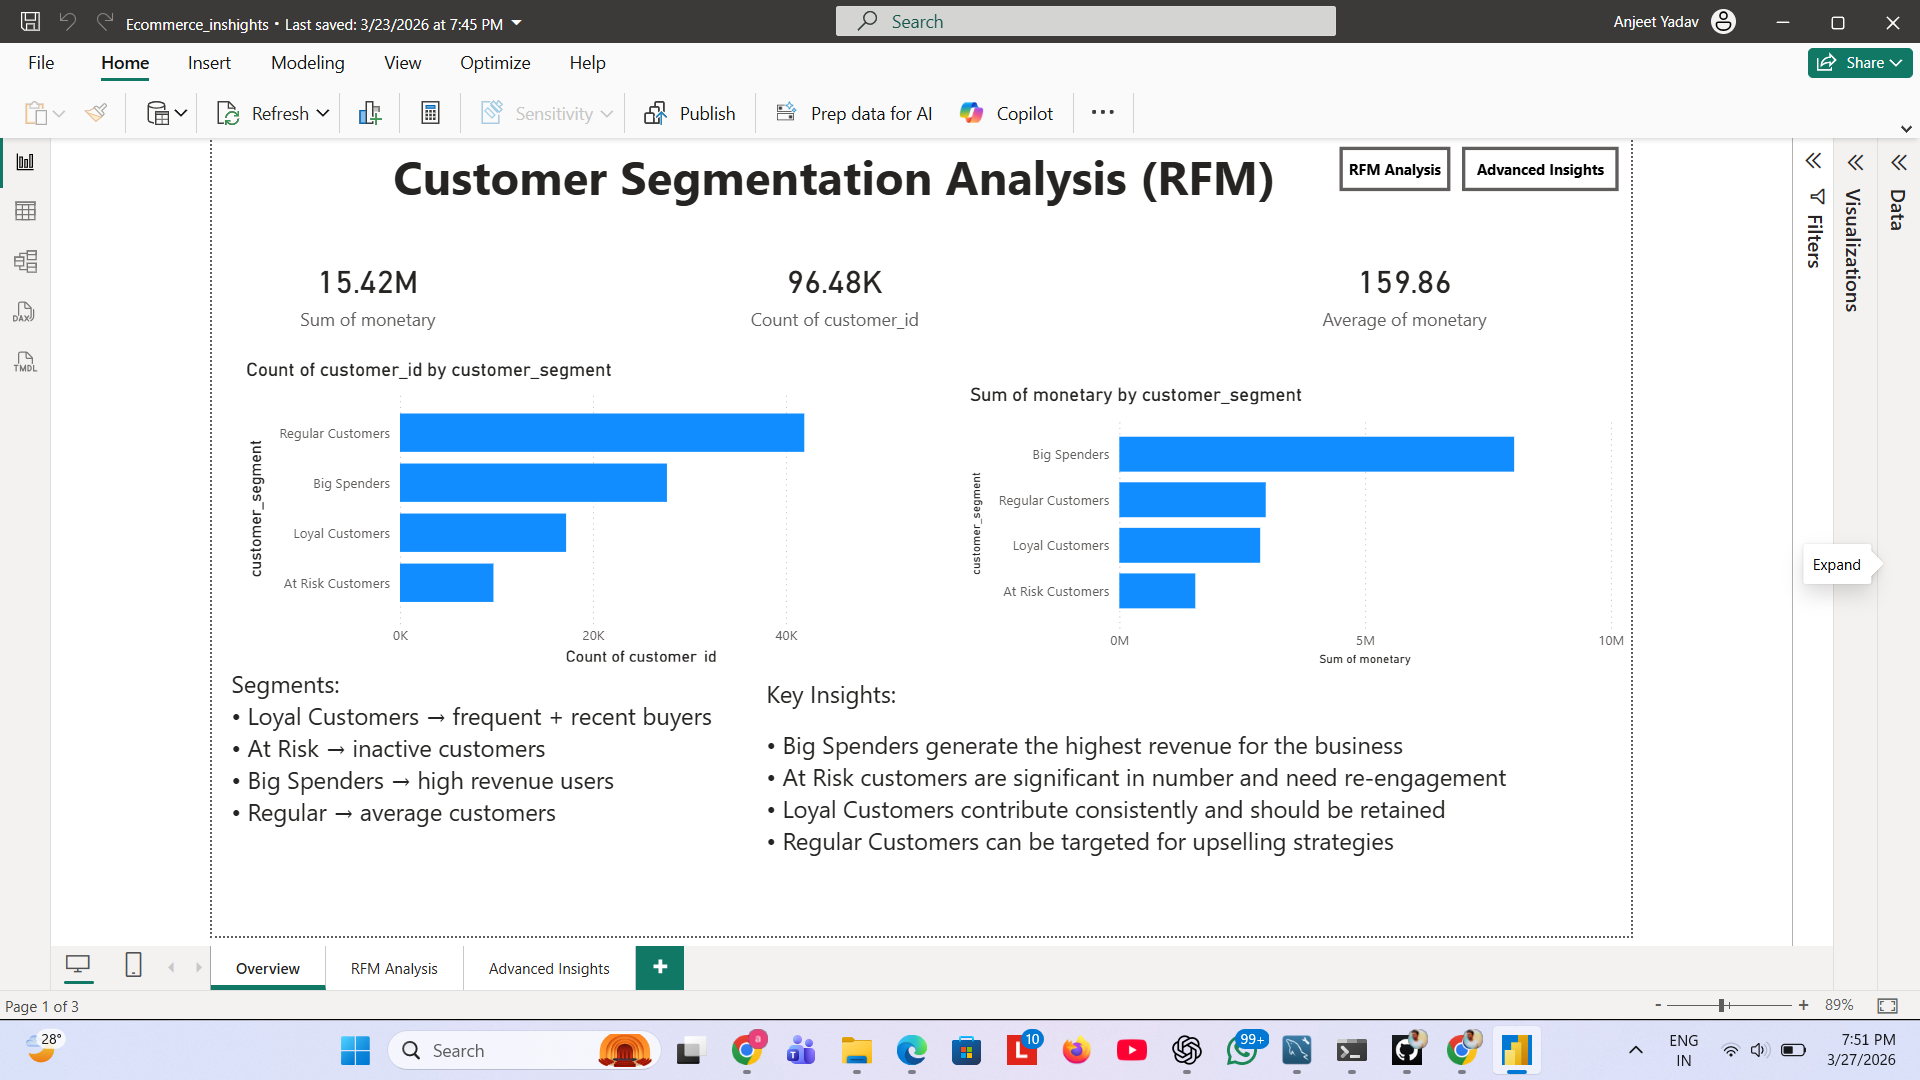

The page's visual inventory and layout, read from the dashboard file:
{"tool":"powerbi","page":{"name":"Overview","canvas":[1280,720],"ordinal":0},"visuals":[{"type":"barChart","fields":{"Category":["rfm_customer_segments.customer_segment"],"Y":["CountNonNull(rfm_customer_segments.customer_id)"]},"box":[26.2,198.8,593.8,282.5],"z":0},{"type":"barChart","fields":{"Category":["rfm_customer_segments.customer_segment"],"Y":["Sum(rfm_customer_segments.monetary)"]},"box":[678.8,221.2,600,260],"z":1000},{"type":"card","fields":{"Values":["CountNonNull(rfm_customer_segments.customer_id)"]},"box":[458.8,93.8,206.2,91.2],"z":2000},{"type":"card","fields":{"Values":["Sum(rfm_customer_segments.monetary)"]},"box":[45,93.8,191.2,91.2],"z":3000},{"type":"card","fields":{"Values":["Avg(rfm_customer_segments.monetary)"]},"box":[981.2,93.8,187.5,90],"z":4000},{"type":"textbox","box":[45,0,1008.8,93.8],"z":5000},{"type":"textbox","box":[12.5,472.5,468.8,198.8],"z":6000},{"type":"textbox","box":[495,481.2,756.2,218.8],"z":7000},{"type":"actionButton","box":[1016.2,7.5,100,40],"z":10000},{"type":"actionButton","box":[1127.5,7.5,141.2,40],"z":11000}]}

Visuals, with their boxes on the page's 1280x720 design canvas (x1, y1, x2, y2). These are canvas units, not pixel positions in the 1920x1080 screenshot, which may show the page scaled, cropped or inside an application window:
barChart - rfm_customer_segments.customer_segment x CountNonNull(rfm_customer_segments.customer_id): x1=26 y1=199 x2=620 y2=481
barChart - rfm_customer_segments.customer_segment x Sum(rfm_customer_segments.monetary): x1=679 y1=221 x2=1279 y2=481
card - CountNonNull(rfm_customer_segments.customer_id): x1=459 y1=94 x2=665 y2=185
card - Sum(rfm_customer_segments.monetary): x1=45 y1=94 x2=236 y2=185
card - Avg(rfm_customer_segments.monetary): x1=981 y1=94 x2=1169 y2=184
textbox: x1=45 y1=0 x2=1054 y2=94
textbox: x1=12 y1=472 x2=481 y2=671
textbox: x1=495 y1=481 x2=1251 y2=700
actionButton: x1=1016 y1=8 x2=1116 y2=48
actionButton: x1=1128 y1=8 x2=1269 y2=48
